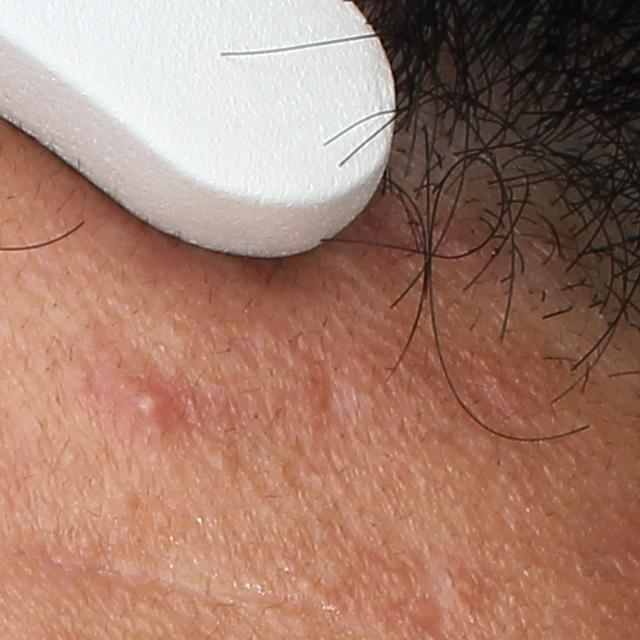comedo: (206, 449, 236, 473)
pustule: (126, 381, 163, 420)
